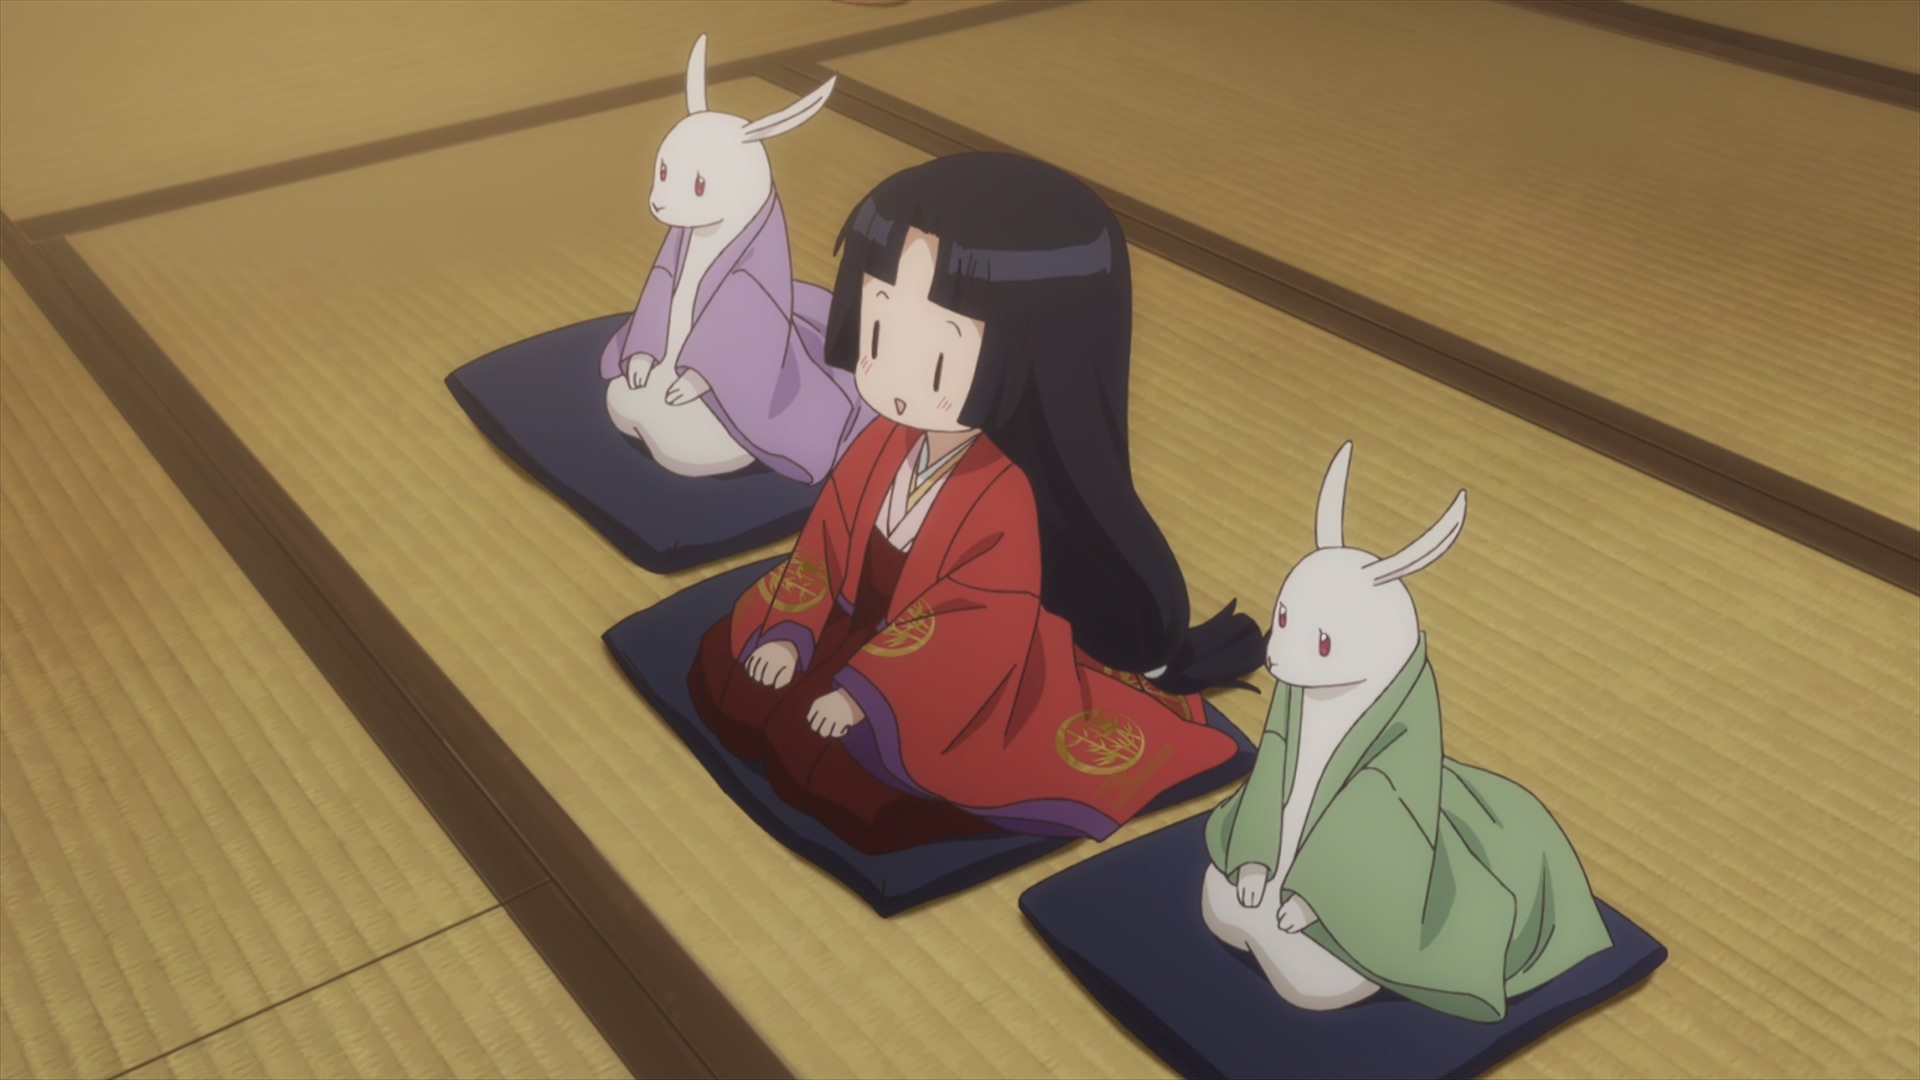其他: (686, 152, 1270, 843), (1201, 443, 1611, 1025), (601, 32, 880, 485)
